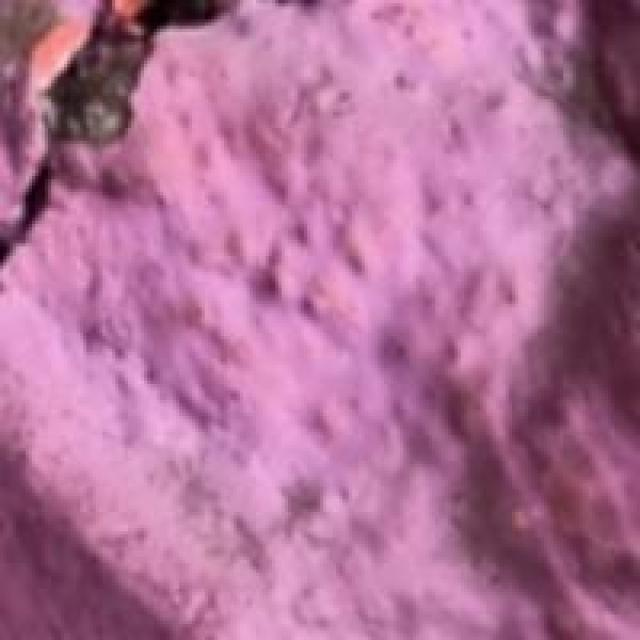crack: (13, 0, 269, 269)
